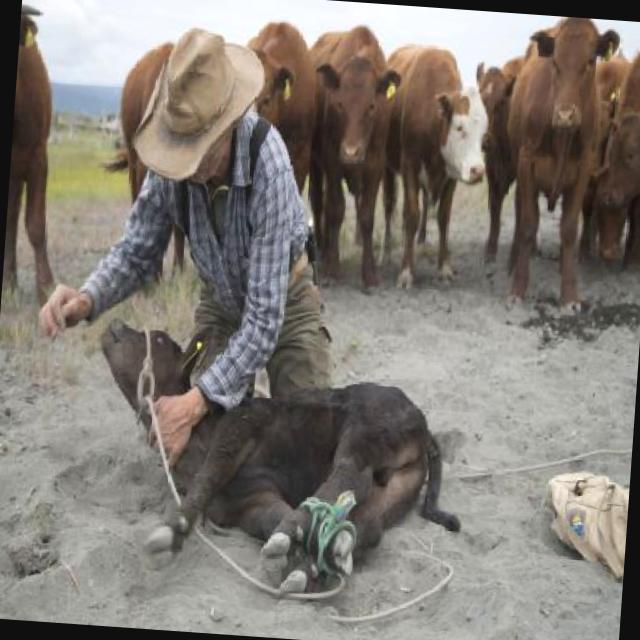Person: (57, 18, 332, 460)
